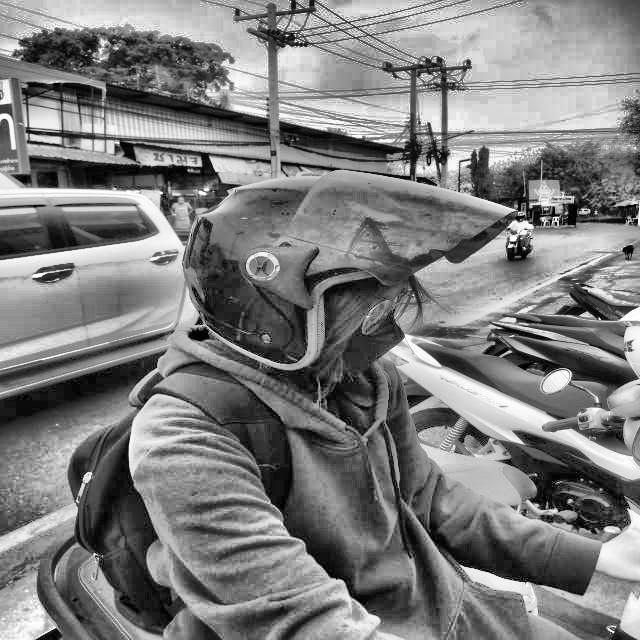Helmet: (172, 164, 523, 376)
